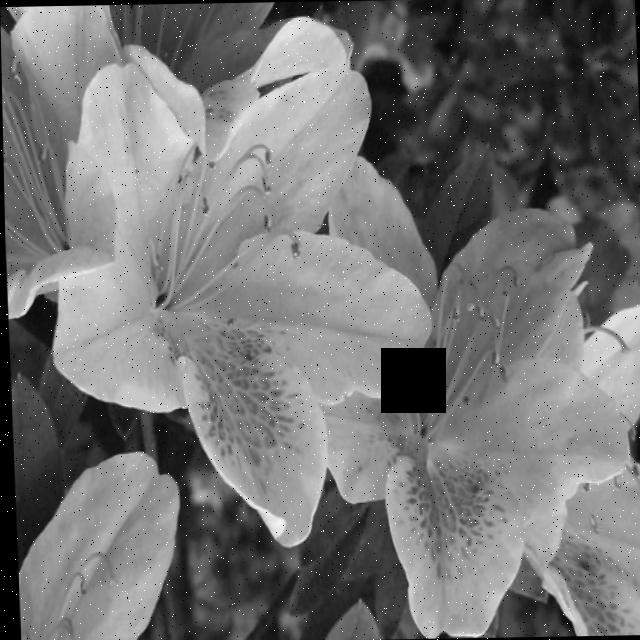azalea: (27, 28, 419, 500), (284, 228, 632, 618)
